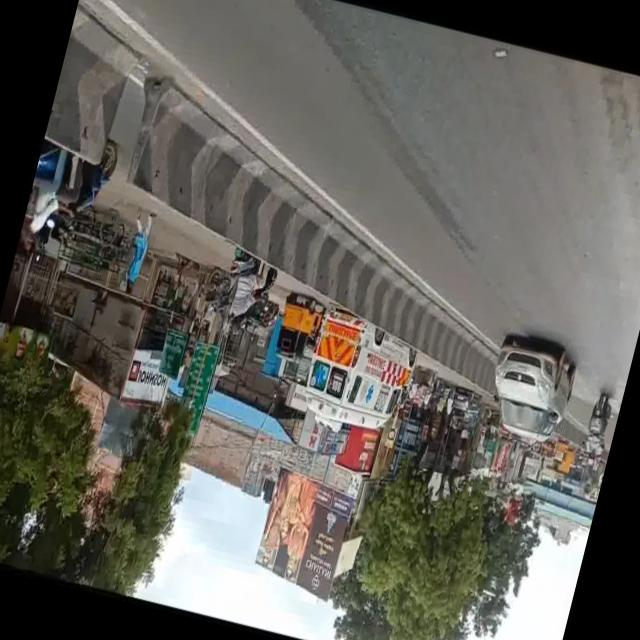ambulance: (290, 297, 421, 431)
